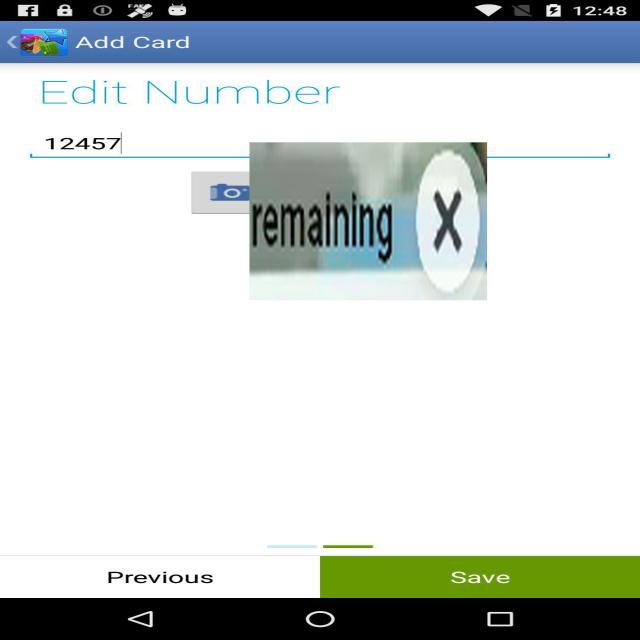misdirection: (250, 142, 487, 300)
